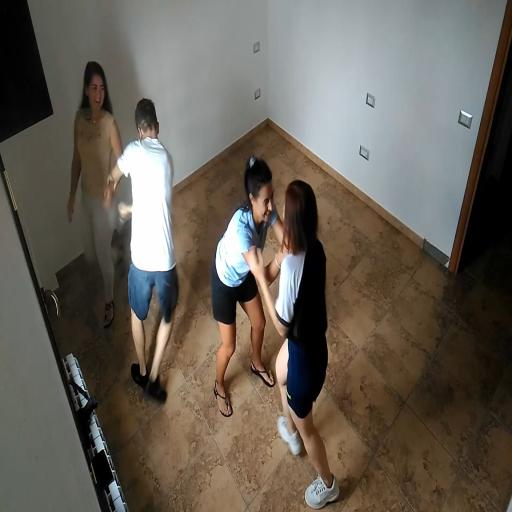violencia: (34, 50, 189, 412), (194, 144, 344, 512)
